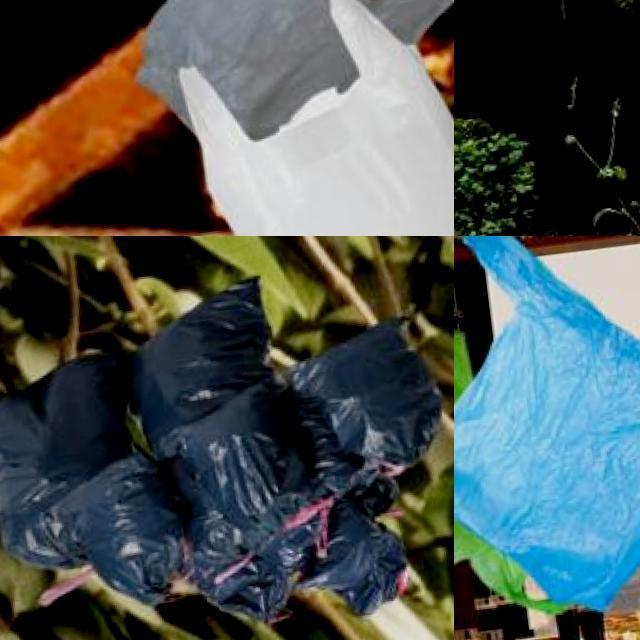waste: (454, 236, 640, 626), (168, 0, 454, 236), (116, 0, 454, 120), (150, 374, 322, 568), (289, 315, 454, 489), (454, 323, 544, 640), (0, 354, 134, 560), (54, 456, 190, 610), (284, 490, 416, 625)
